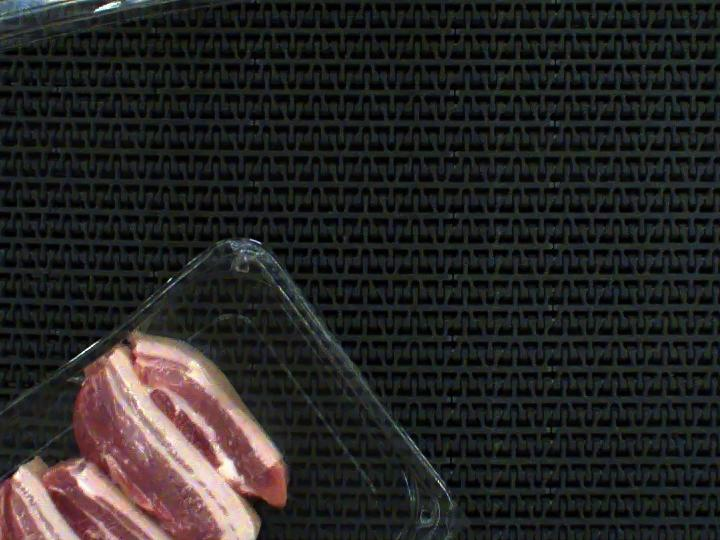packaging-error: (59, 292, 185, 395)
